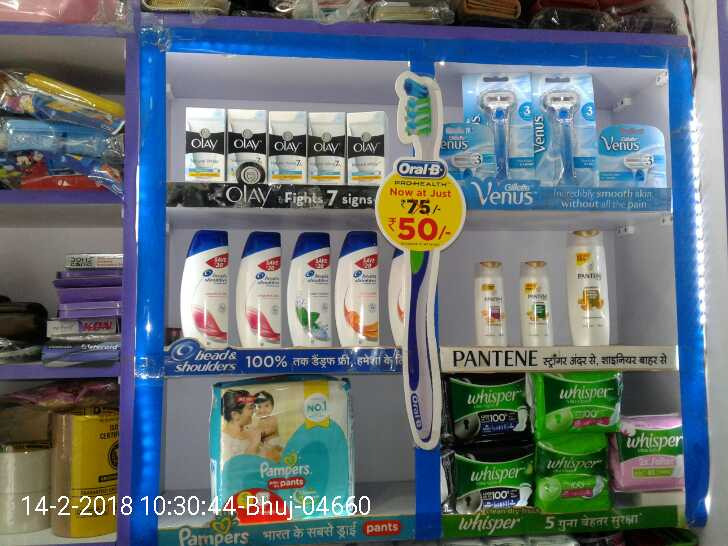venus: (533, 74, 601, 183), (489, 74, 533, 178), (601, 124, 664, 183), (443, 128, 489, 178)
